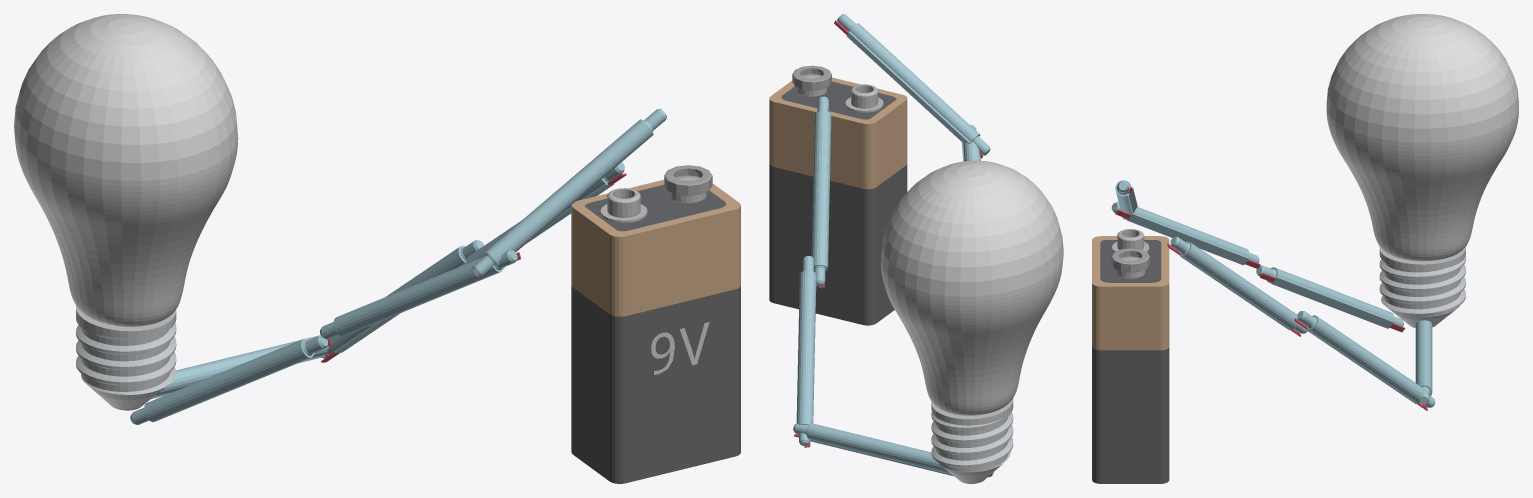
The model's file is Circuit.glb.
The picture shows the model from 3 angles, left to right: view 1: azimuth 30°, elevation 25°; view 2: azimuth 150°, elevation 25°; view 3: azimuth 270°, elevation 25°; orthographic projection. The views are drawn at different scales.
Parts seen in each view (by area): view 1: Mesh_Mesh_head_geo.001_lambert2SG.001; view 2: Mesh_Mesh_head_geo.001_lambert2SG.001; view 3: Mesh_Mesh_head_geo.001_lambert2SG.001.
Part boxes in pixels (x1,y1,x2,y2): Mesh_Mesh_head_geo.001_lambert2SG.001: [14, 14, 740, 483]; Mesh_Mesh_head_geo.001_lambert2SG.001: [769, 14, 1063, 483]; Mesh_Mesh_head_geo.001_lambert2SG.001: [1092, 14, 1518, 483].
Bounding box in the file's own units: 99.5 × 73 × 91.
